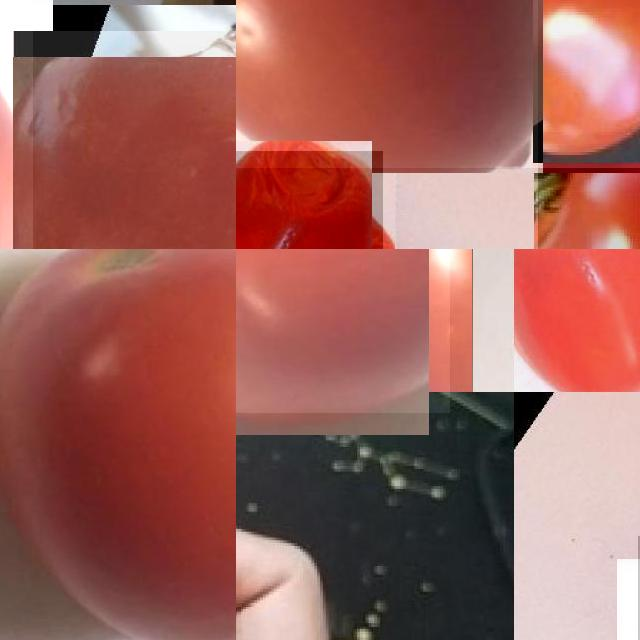Fresh Tomato: (0, 249, 236, 640), (236, 0, 538, 168), (236, 249, 450, 413), (543, 0, 640, 163)
Rotten Tomato: (13, 31, 236, 249), (514, 249, 640, 392), (236, 151, 383, 249)
